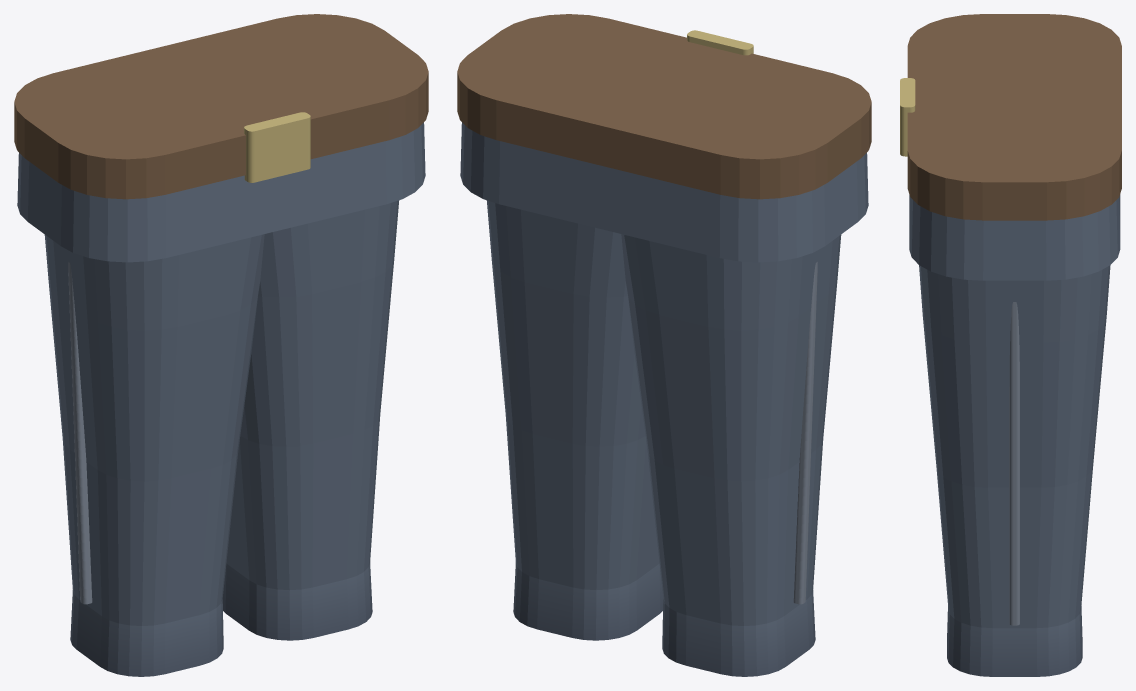
File: pants.glb
The picture shows the model from 3 angles, left to right: view 1: azimuth 30°, elevation 25°; view 2: azimuth 150°, elevation 25°; view 3: azimuth 270°, elevation 25°; orthographic projection. The views are drawn at different scales.
Visible parts, largest first — view 1: pants; view 2: pants; view 3: pants.
Part boxes in pixels (x1,y1,x2,y2): pants: (14, 14, 428, 676); pants: (457, 14, 871, 676); pants: (900, 14, 1121, 676).
Bounding box in the file's own units: 2.64 × 3.82 × 1.47.
